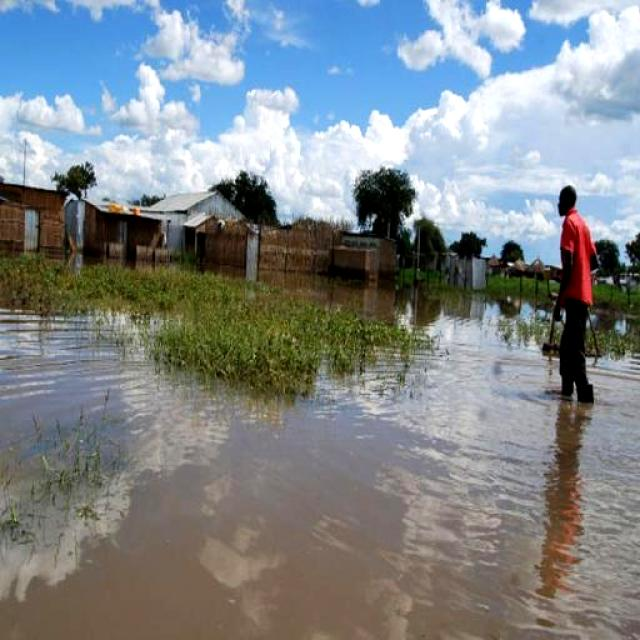civilian: (528, 164, 620, 449)
